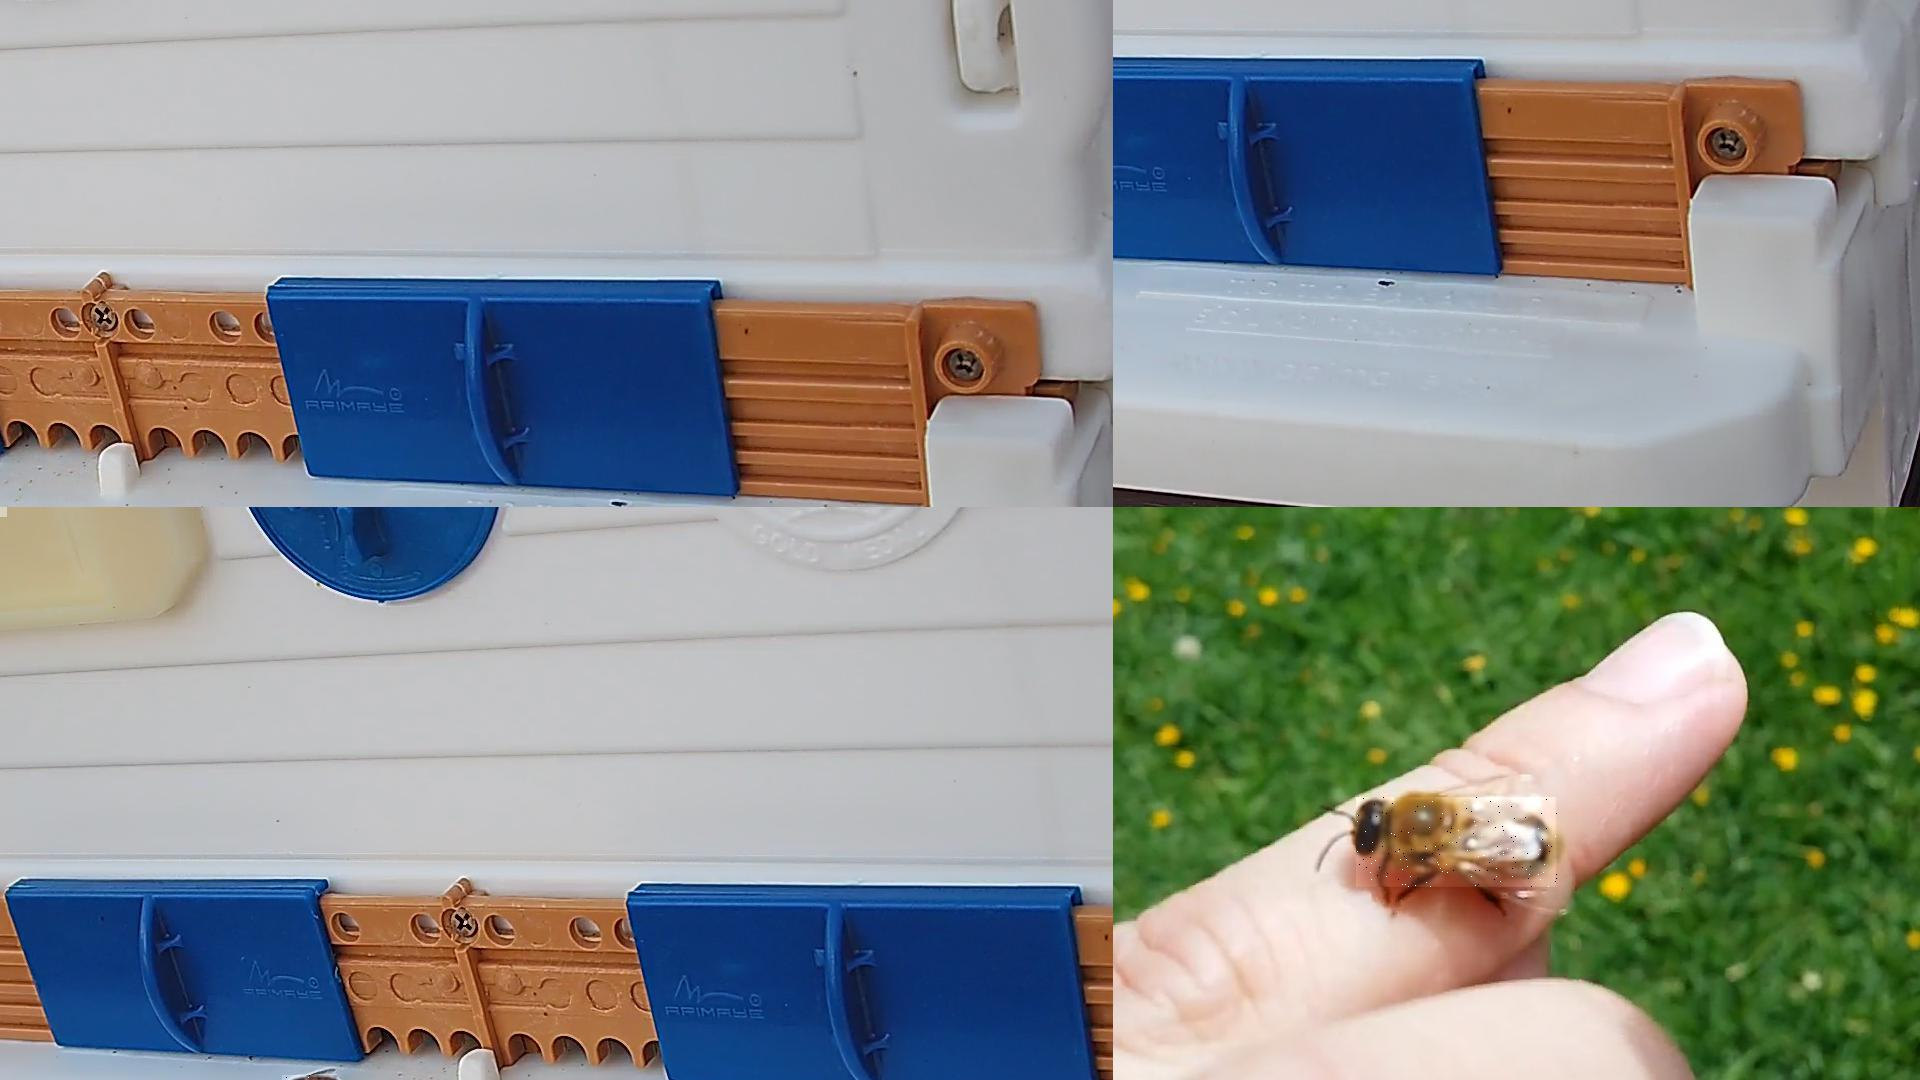drone: (1357, 798, 1560, 889)
